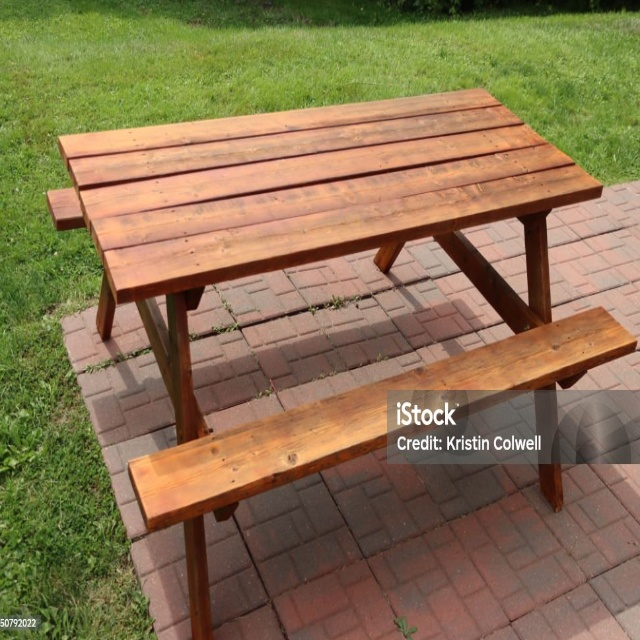obstacle: (45, 88, 631, 625)
